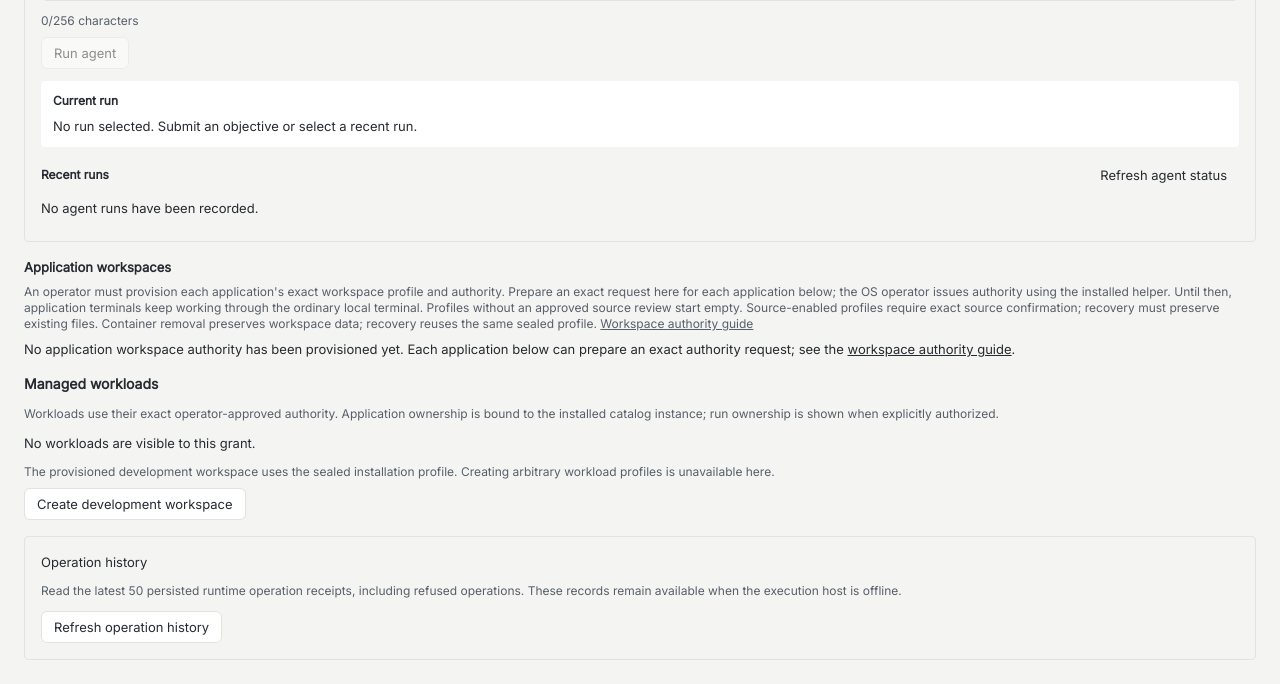
Scenario: retains sealed development workspace creation and its refused receipt
(page scrolled)
Click the button "Create development workspace" at [135, 504], box [24,488,246,520]
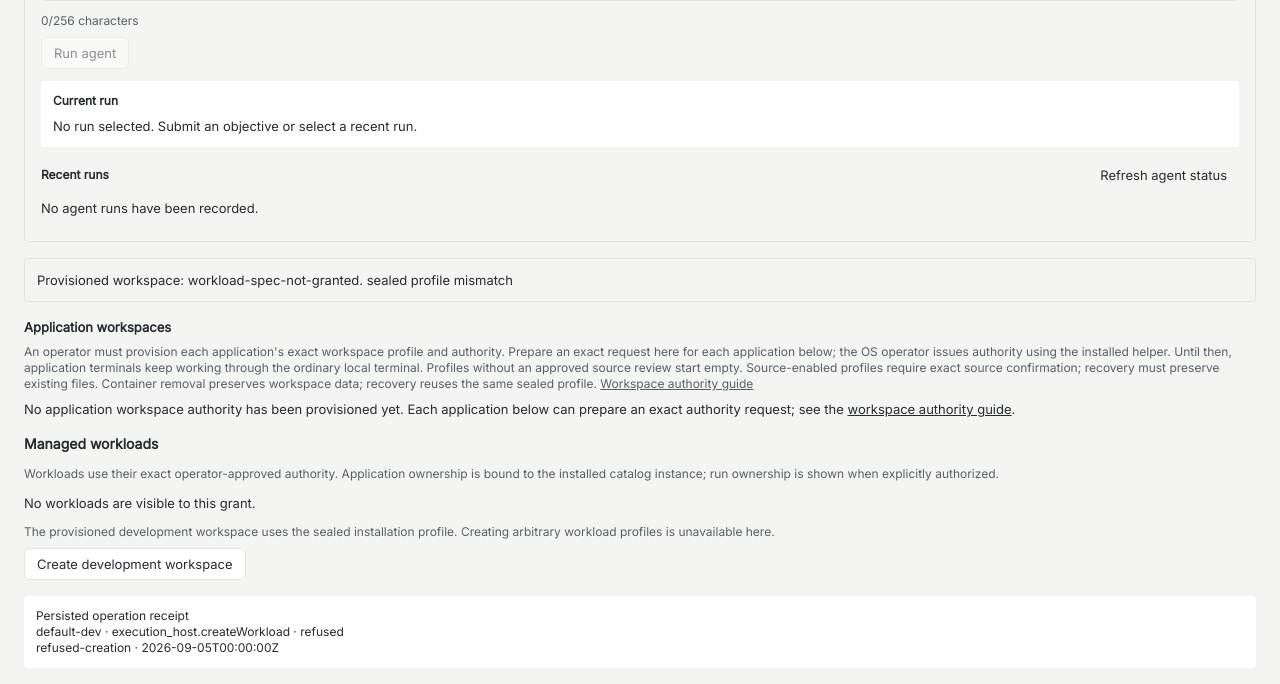
Now the element with test id "execution-host-receipt" shows "refused-creation", box [36,640,131,655]
